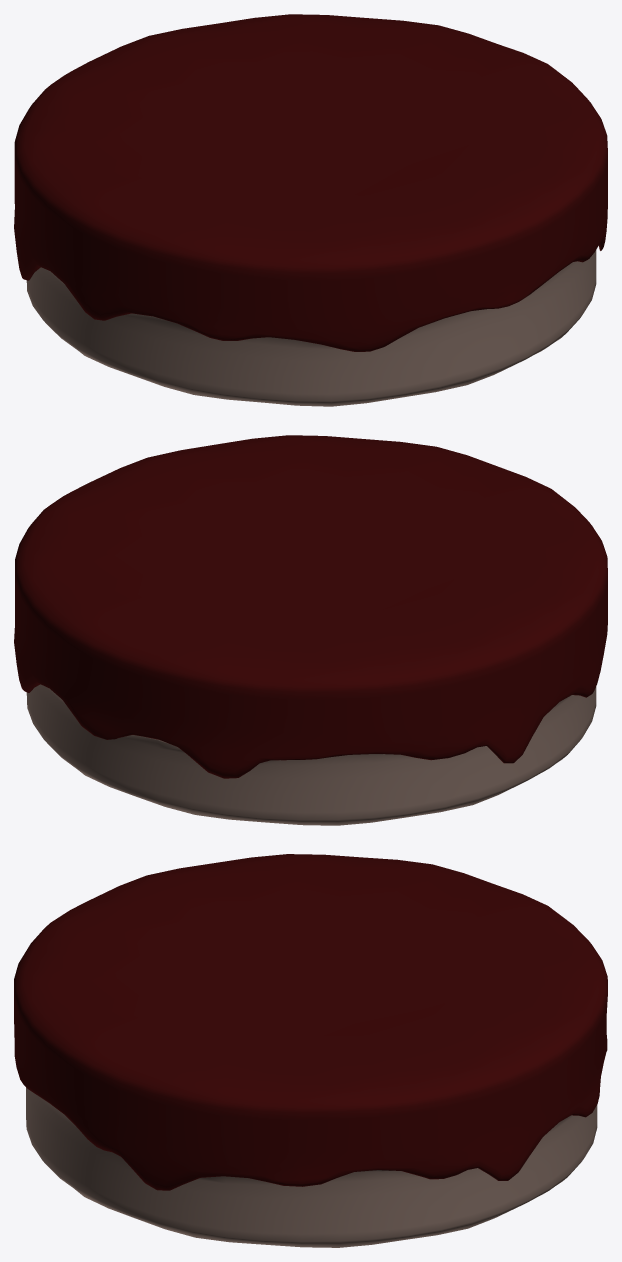
Rendered from cake_high.fbx.
The picture shows the model from 3 angles, top to bottom: view 1: azimuth 30°, elevation 25°; view 2: azimuth 150°, elevation 25°; view 3: azimuth 270°, elevation 25°; orthographic projection.
Parts seen in each view (by area): view 1: pCylinder1; view 2: pCylinder1; view 3: pCylinder1.
Part boxes in pixels (box(x1,y1,x2,y2)): pCylinder1: box(14, 14, 607, 406); pCylinder1: box(14, 435, 607, 825); pCylinder1: box(14, 854, 607, 1247).
Size of the model in its own units: 26.66 by 8.33 by 26.41.
